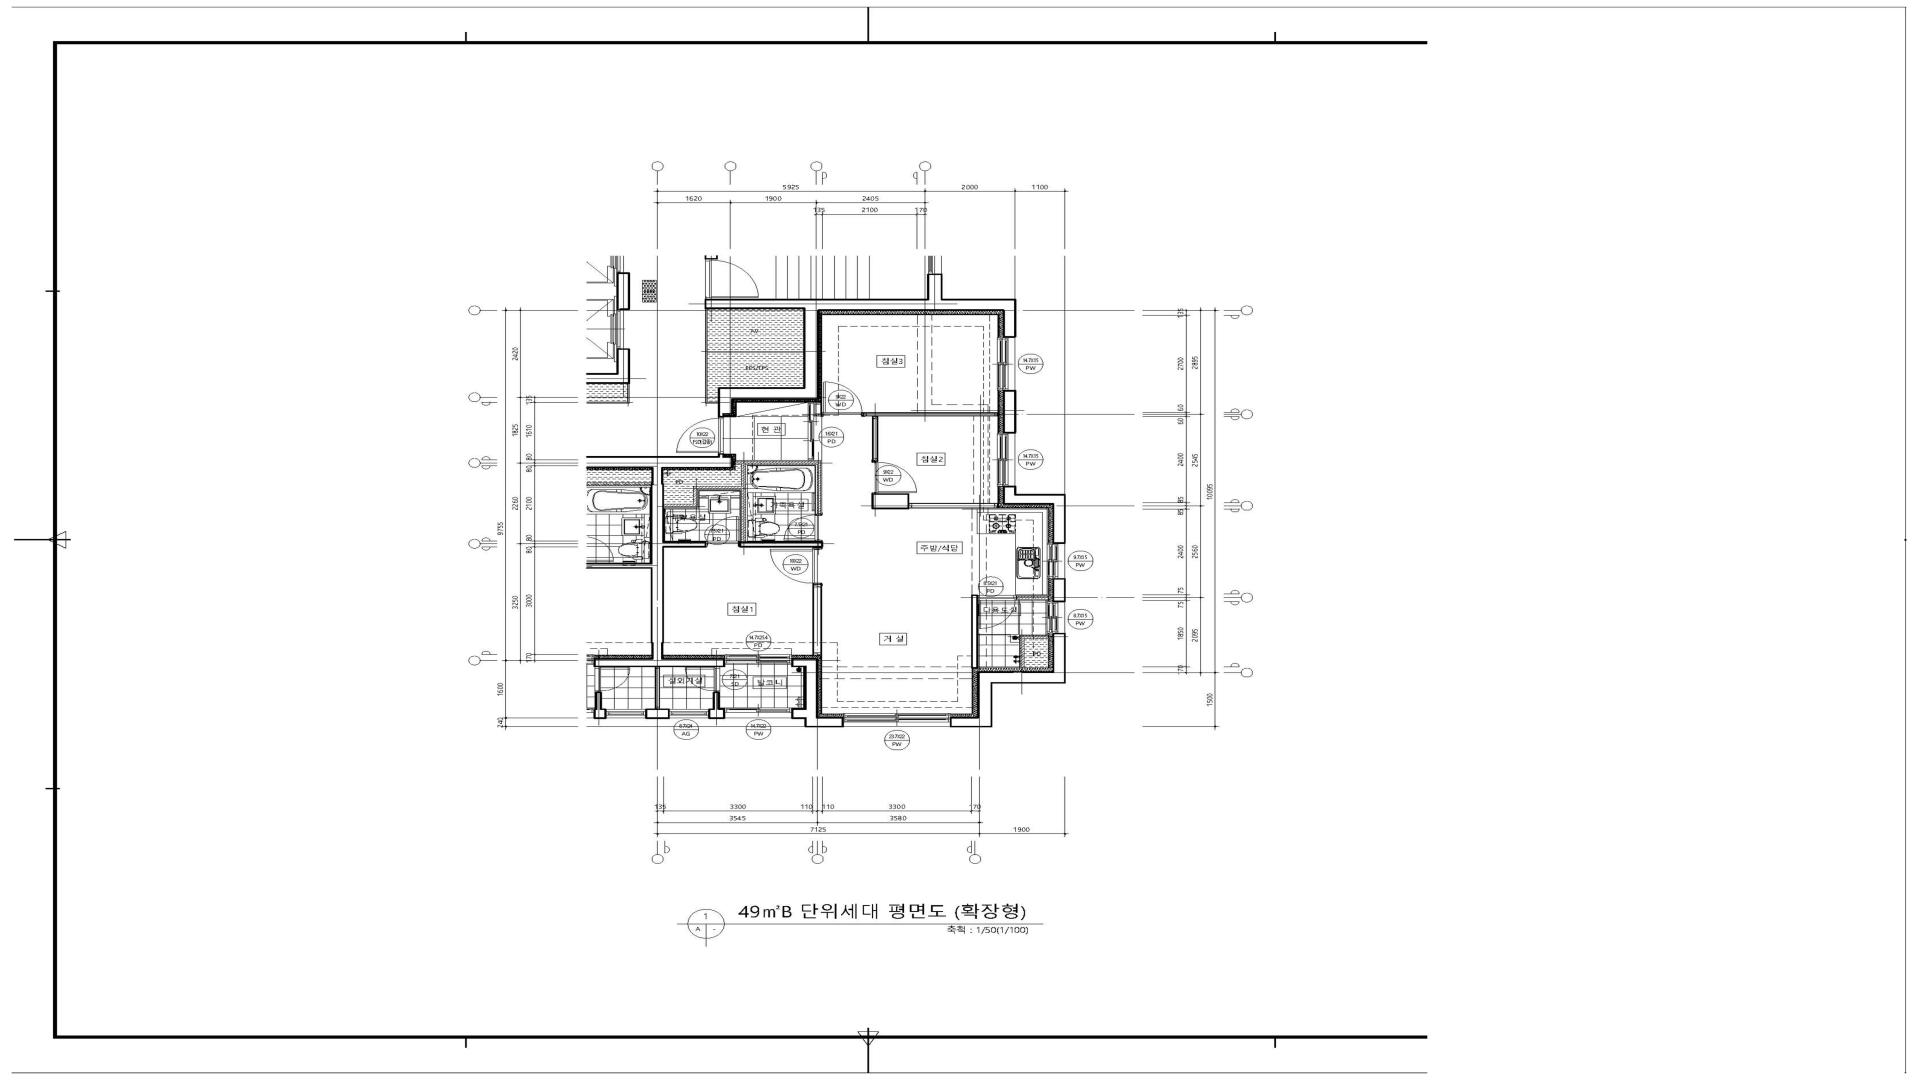door: (769, 547, 823, 584), (675, 417, 724, 454), (822, 381, 864, 417), (872, 462, 918, 493), (978, 595, 1017, 630), (705, 516, 740, 549), (783, 514, 823, 541), (683, 667, 720, 691), (807, 402, 822, 460)
wall: (717, 298, 1017, 417), (650, 454, 733, 667), (665, 460, 823, 547), (949, 633, 1065, 728), (864, 411, 998, 462), (1002, 485, 1065, 545), (791, 658, 844, 728), (872, 493, 1000, 509), (1019, 634, 1052, 671), (812, 584, 822, 655), (1002, 390, 1017, 434), (971, 595, 978, 669), (708, 691, 725, 719), (645, 708, 670, 720), (1052, 579, 1065, 601), (654, 667, 661, 708), (1017, 595, 1048, 600)
window: (844, 713, 949, 728), (997, 338, 1017, 390), (997, 434, 1017, 487), (725, 654, 793, 667), (725, 708, 791, 719), (1047, 543, 1065, 579), (1046, 601, 1065, 633), (669, 708, 708, 720)
